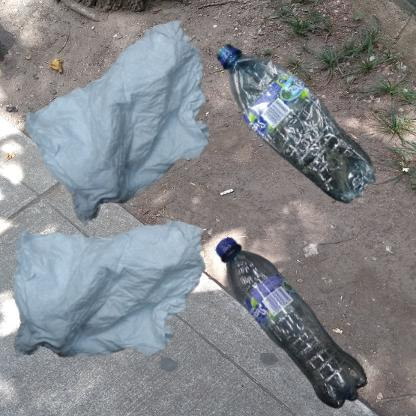botella: (213, 10, 414, 272), (213, 213, 388, 416)
papel: (10, 10, 296, 269), (10, 213, 209, 364)
